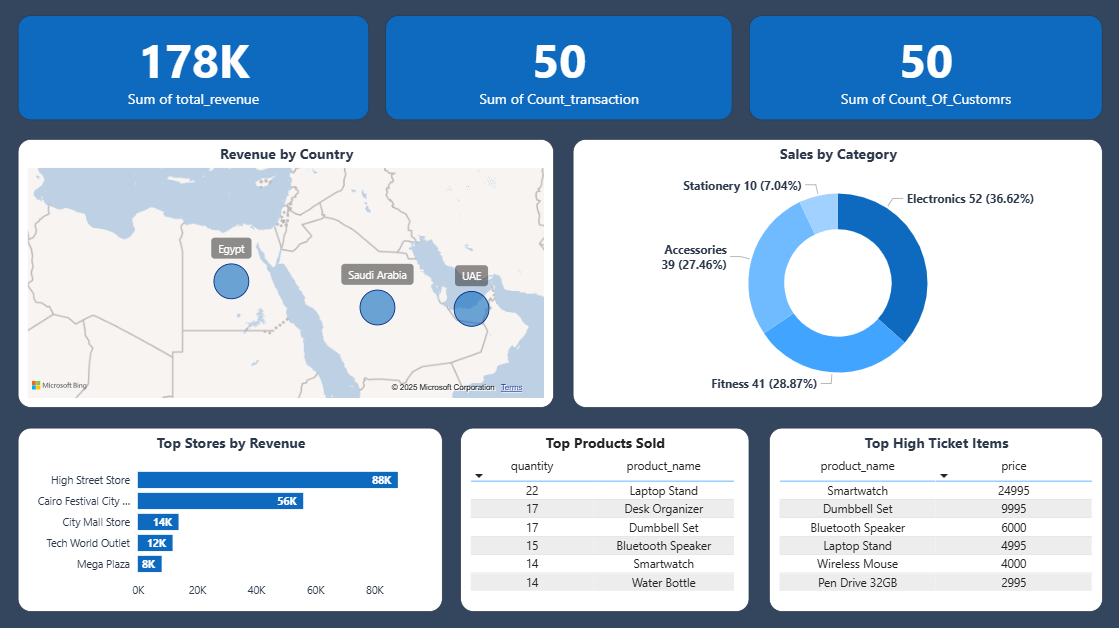

The page's visual inventory and layout, read from the dashboard file:
{"tool":"powerbi","page":{"name":"Page 1","canvas":[1280,720],"ordinal":0},"visuals":[{"type":"card","fields":{"Values":["Sum(country_customer_gold.Count_Of_Customrs)"]},"box":[857.1,18.6,404.3,120],"z":0},{"type":"map","title":"Revenue by Country","fields":{"Category":["contry_transaction_gold.country"],"Size":["Sum(top_stores_location_revenue_gold.total_revenue)"]},"box":[21.4,160,612.9,307.1],"z":1000},{"type":"donutChart","title":"Sales by Category","fields":{"Category":["most_sold_category_gold.category"],"Y":["Sum(most_sold_category_gold.quantity)"]},"box":[655.7,160,605.7,307.1],"z":2000},{"type":"clusteredBarChart","title":"Top Stores by Revenue","fields":{"Category":["top_stores_location_revenue_gold.store_name"],"Y":["Sum(top_stores_location_revenue_gold.total_revenue)"]},"box":[21.4,490,485.7,210],"z":3000},{"type":"tableEx","title":"Top Products Sold","fields":{"Values":["top_products_sold_gold.quantity","top_products_sold_gold.product_name"]},"box":[527.1,490,330,210],"z":4000},{"type":"tableEx","title":"Top High Ticket Items","fields":{"Values":["top_exp_product_gold.product_name","top_exp_product_gold.price"]},"box":[880,490,381.4,210],"z":5000},{"type":"card","fields":{"Values":["Sum(top_stores_location_revenue_gold.total_revenue)"]},"box":[21.4,18.6,401.4,120],"z":6000},{"type":"card","fields":{"Values":["Sum(contry_transaction_gold.Count_transaction)"]},"box":[441.4,18.6,397.1,120],"z":7000}]}

Visuals, with their boxes in screenshot pixels (x1, y1, x2, y2), scaled from the page's 1280x720 canvas onto the 1119x628 screenshot:
card - Sum(country_customer_gold.Count_Of_Customrs): select_region(749, 16, 1103, 121)
"Revenue by Country" map: select_region(19, 140, 555, 407)
"Sales by Category" donutChart: select_region(573, 140, 1103, 407)
"Top Stores by Revenue" clusteredBarChart: select_region(19, 427, 443, 611)
"Top Products Sold" tableEx: select_region(461, 427, 749, 611)
"Top High Ticket Items" tableEx: select_region(769, 427, 1103, 611)
card - Sum(top_stores_location_revenue_gold.total_revenue): select_region(19, 16, 370, 121)
card - Sum(contry_transaction_gold.Count_transaction): select_region(386, 16, 733, 121)
